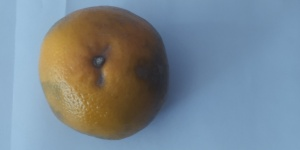BAD: (38, 3, 168, 144)
